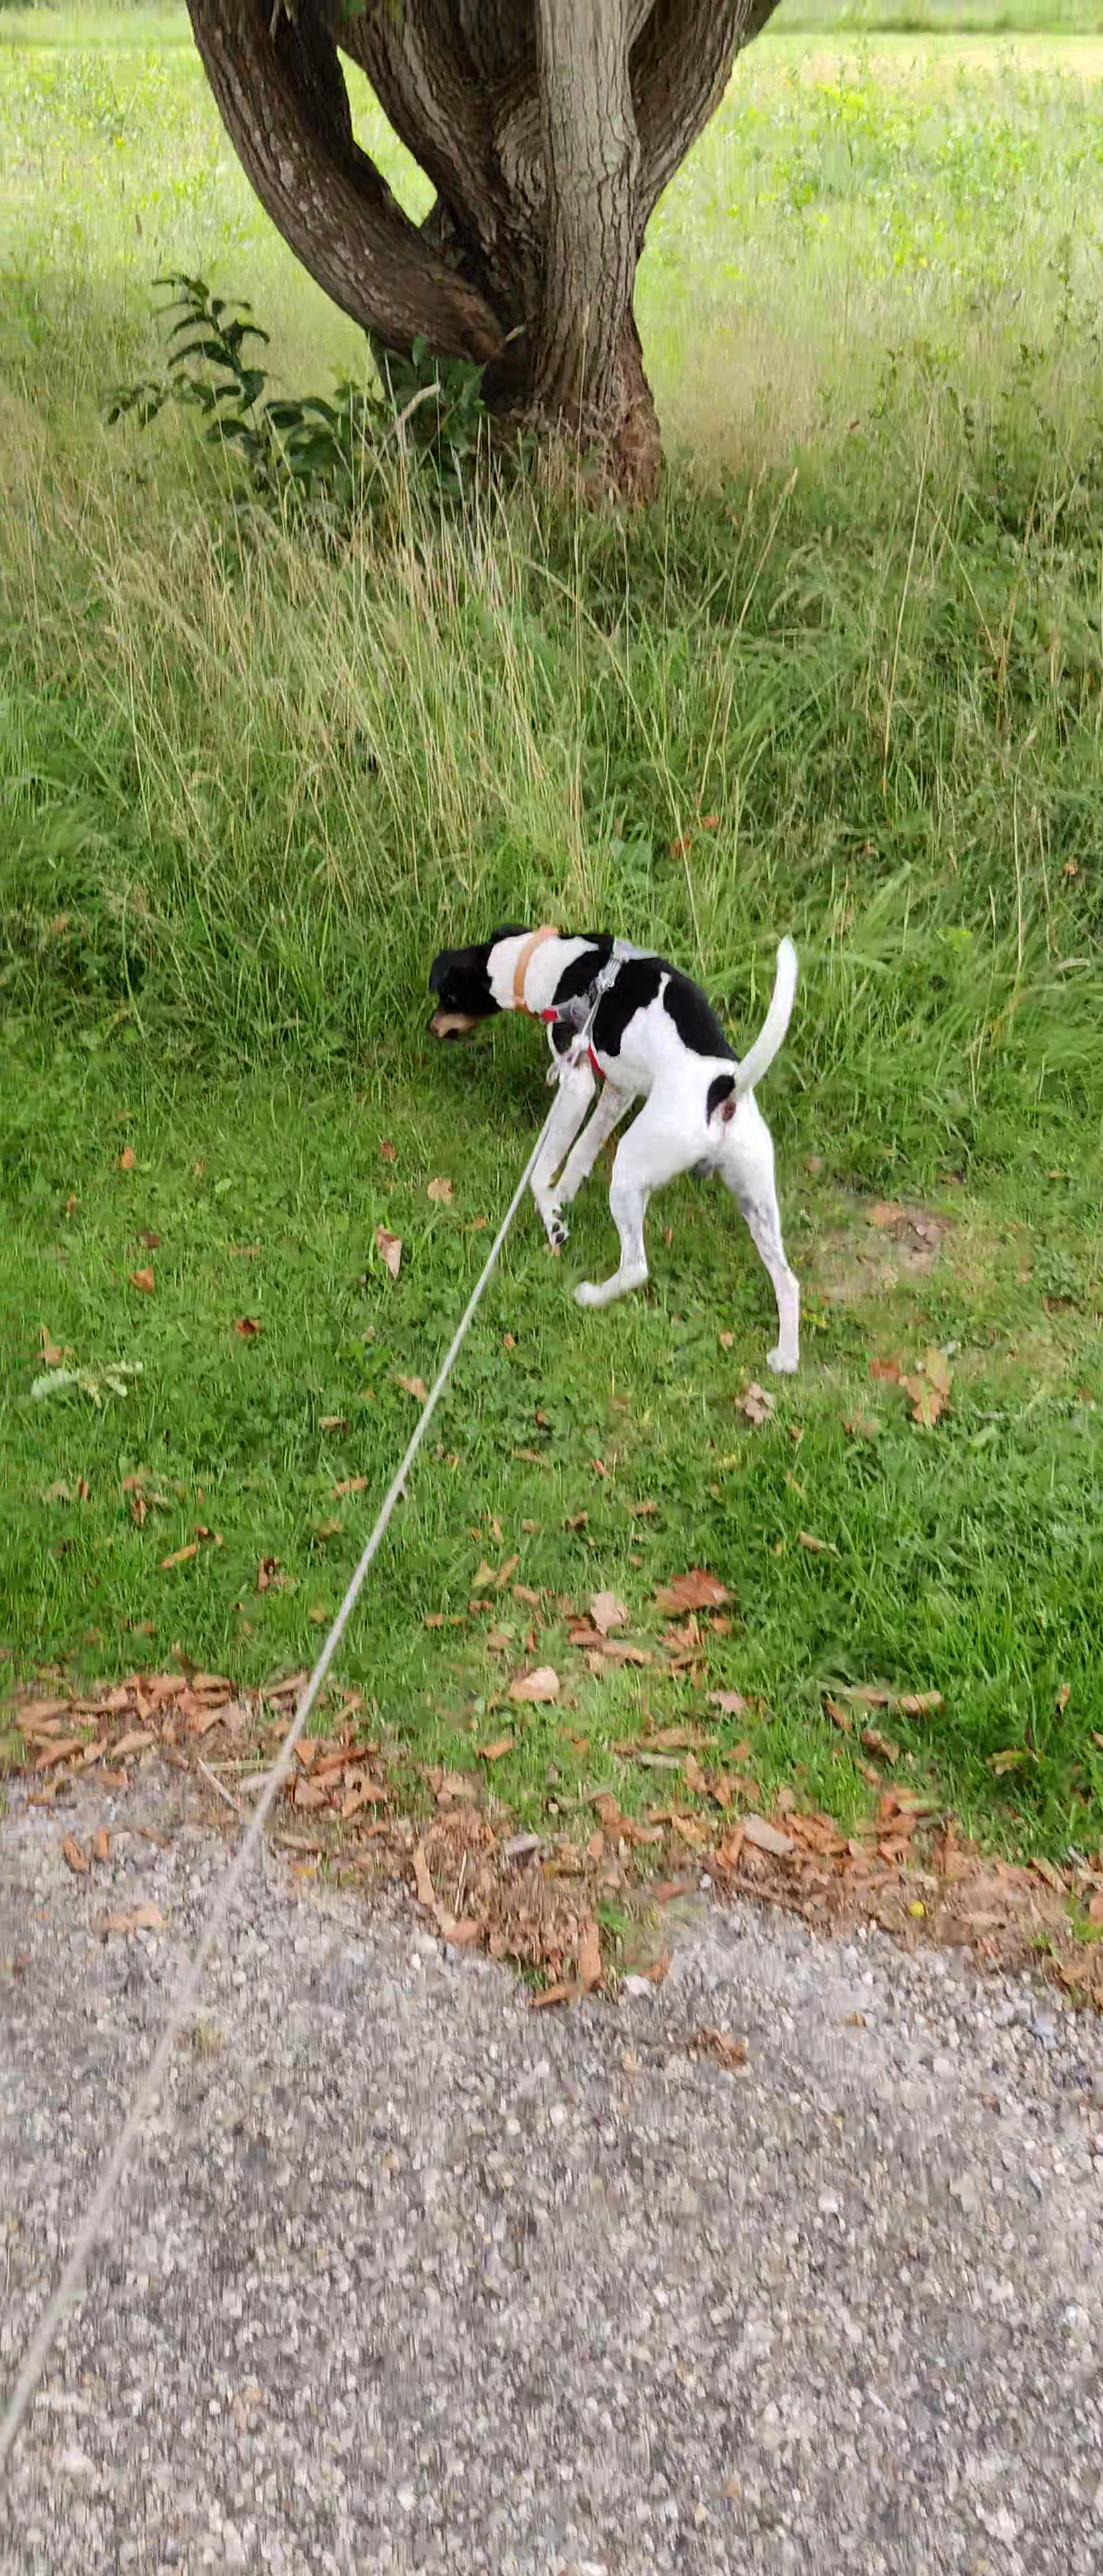Dog: (406, 913, 825, 1372)
